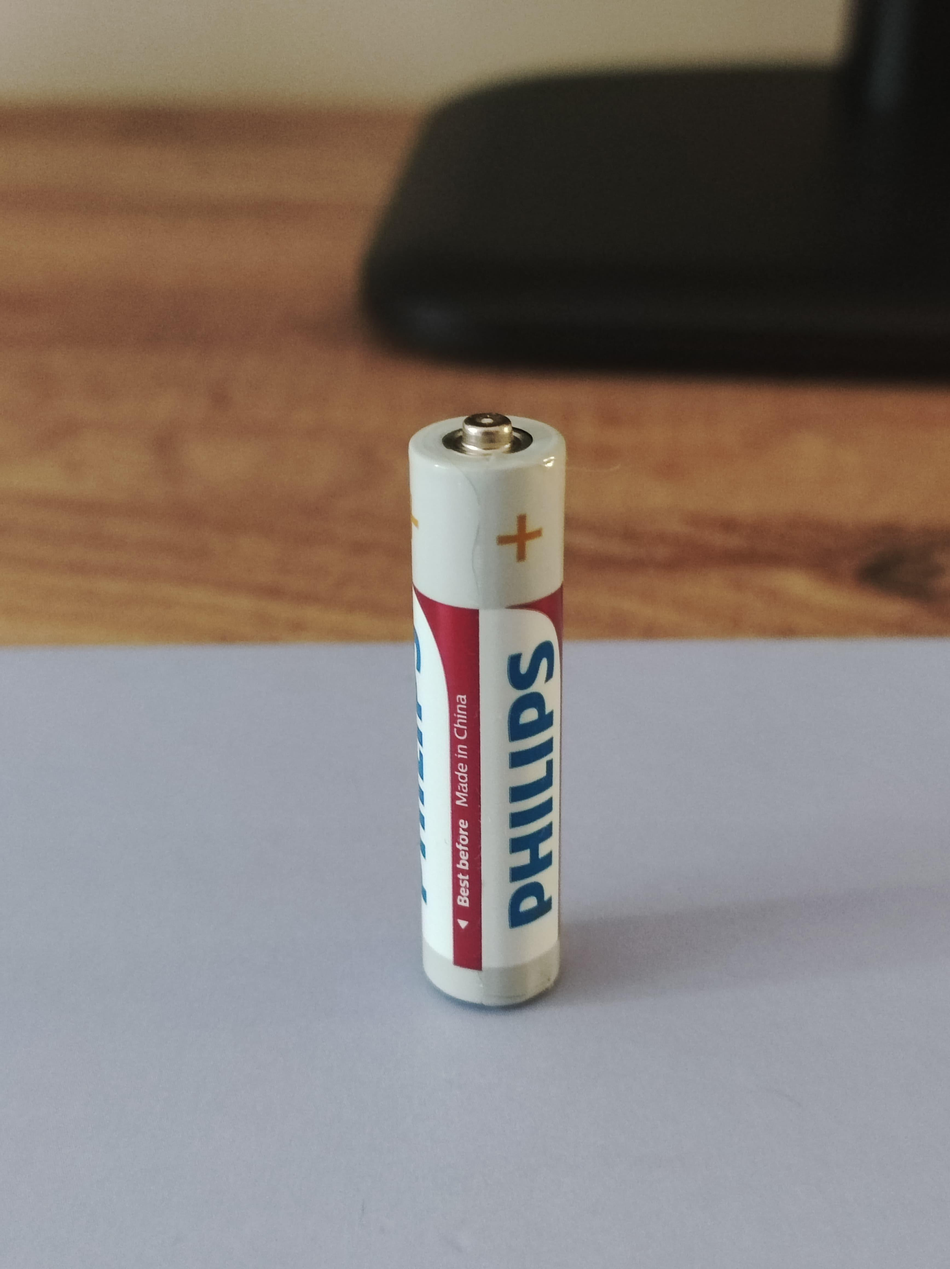AAA: (397, 392, 575, 1020)
